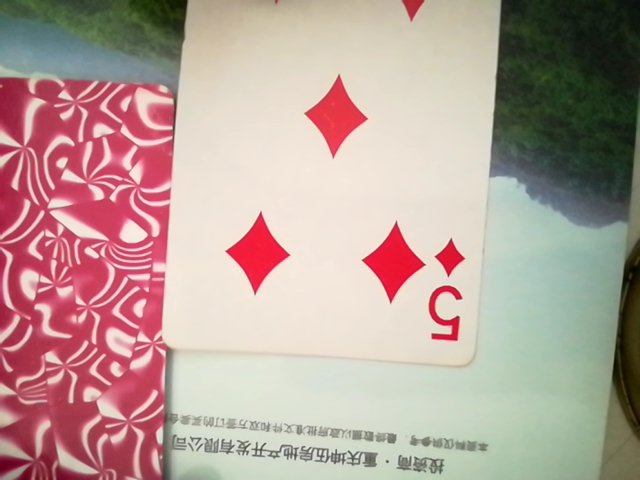fk 5: (155, 4, 512, 374)
